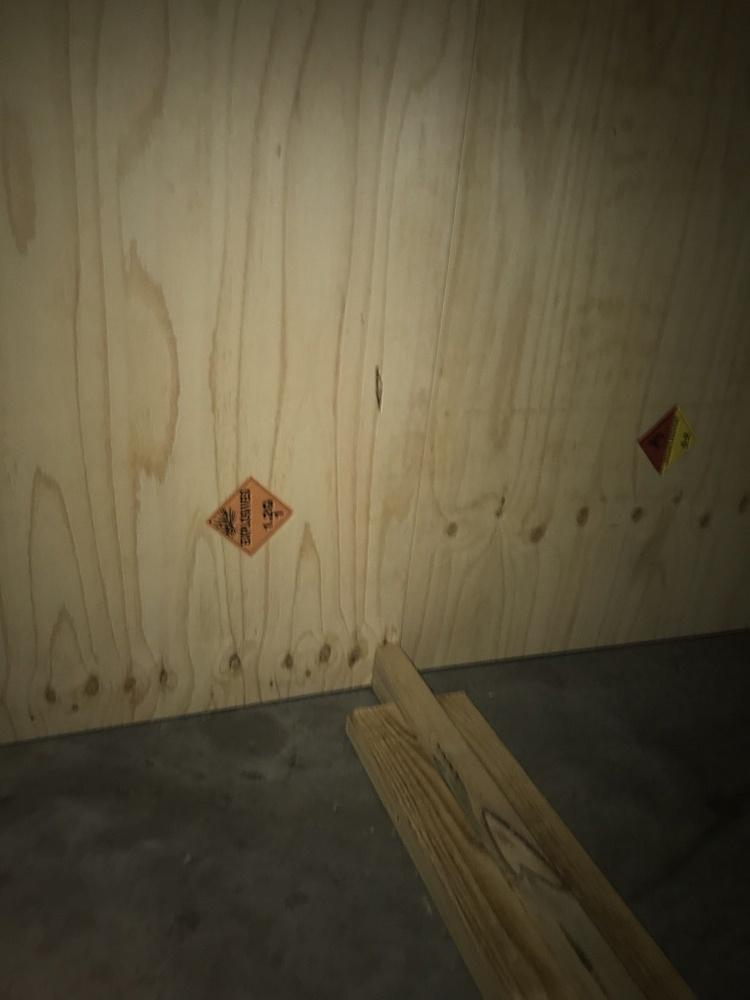explosive: (204, 476, 293, 566)
